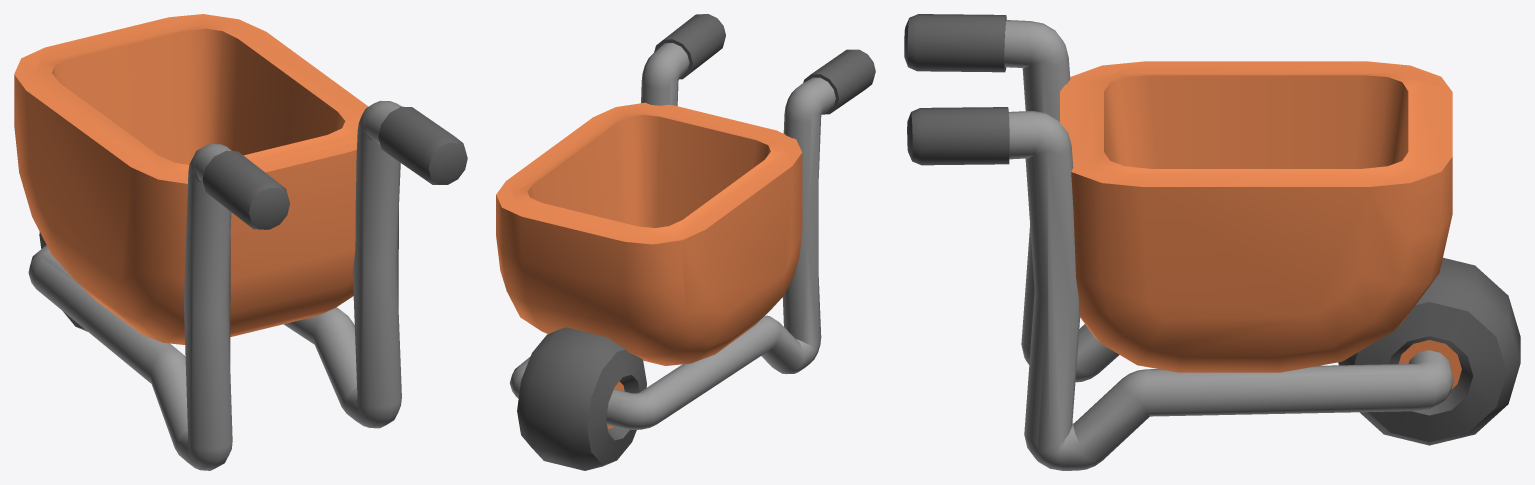
The model's file is Wheelbarrow.fbx.
The picture shows the model from 3 angles, left to right: view 1: azimuth 30°, elevation 25°; view 2: azimuth 150°, elevation 25°; view 3: azimuth 270°, elevation 25°; orthographic projection. The views are drawn at different scales.
Parts seen in each view (by area): view 1: Wheelbarrow; view 2: Wheelbarrow; view 3: Wheelbarrow.
Part boxes in pixels (x1,y1,x2,y2): Wheelbarrow: [14, 14, 467, 470]; Wheelbarrow: [496, 14, 875, 470]; Wheelbarrow: [904, 14, 1520, 470].
Bounding box in the file's own units: 85.66 × 117 × 178.
